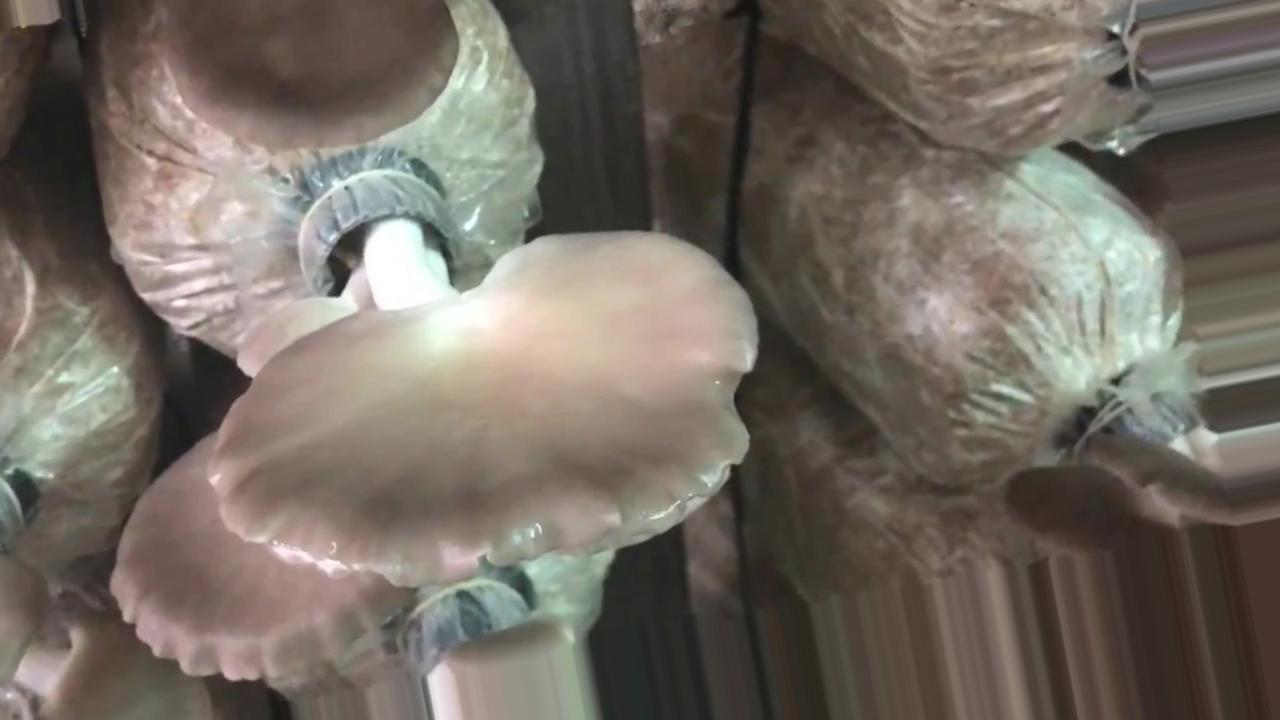nam: (207, 180, 760, 578), (107, 434, 416, 685), (167, 10, 452, 150)
